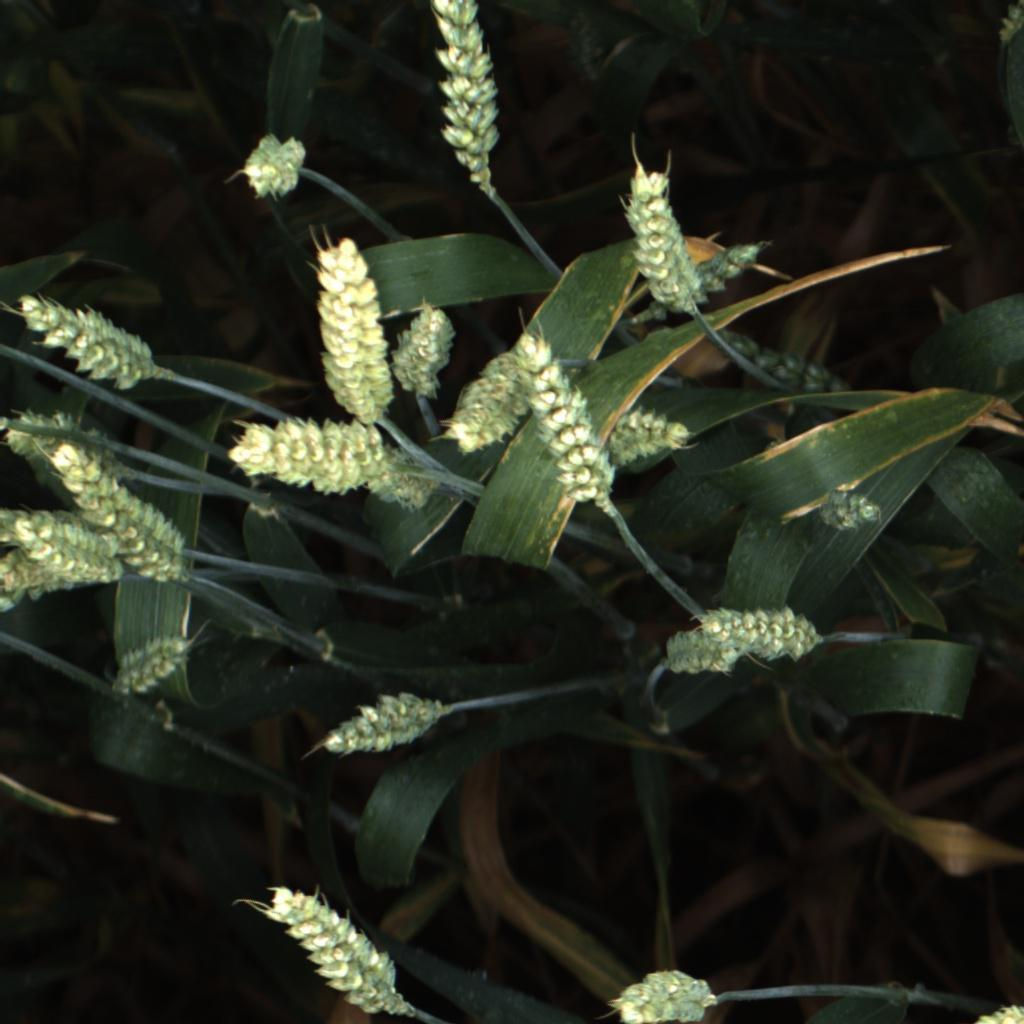0-0: (265, 881, 409, 1024), (51, 447, 194, 585), (518, 322, 615, 524), (306, 232, 397, 422), (419, 0, 507, 191), (16, 289, 158, 395), (226, 407, 381, 495), (617, 163, 704, 316), (647, 233, 766, 325), (446, 342, 535, 456), (3, 410, 127, 490), (14, 508, 131, 589), (322, 690, 443, 761), (715, 320, 839, 387), (701, 598, 818, 665), (390, 295, 461, 399), (606, 958, 713, 1024), (0, 543, 91, 615), (232, 125, 314, 204), (366, 441, 443, 516), (107, 633, 190, 701), (606, 411, 697, 469), (656, 623, 746, 680), (561, 8, 614, 90), (818, 484, 887, 536), (0, 505, 39, 546), (996, 0, 1024, 45)
